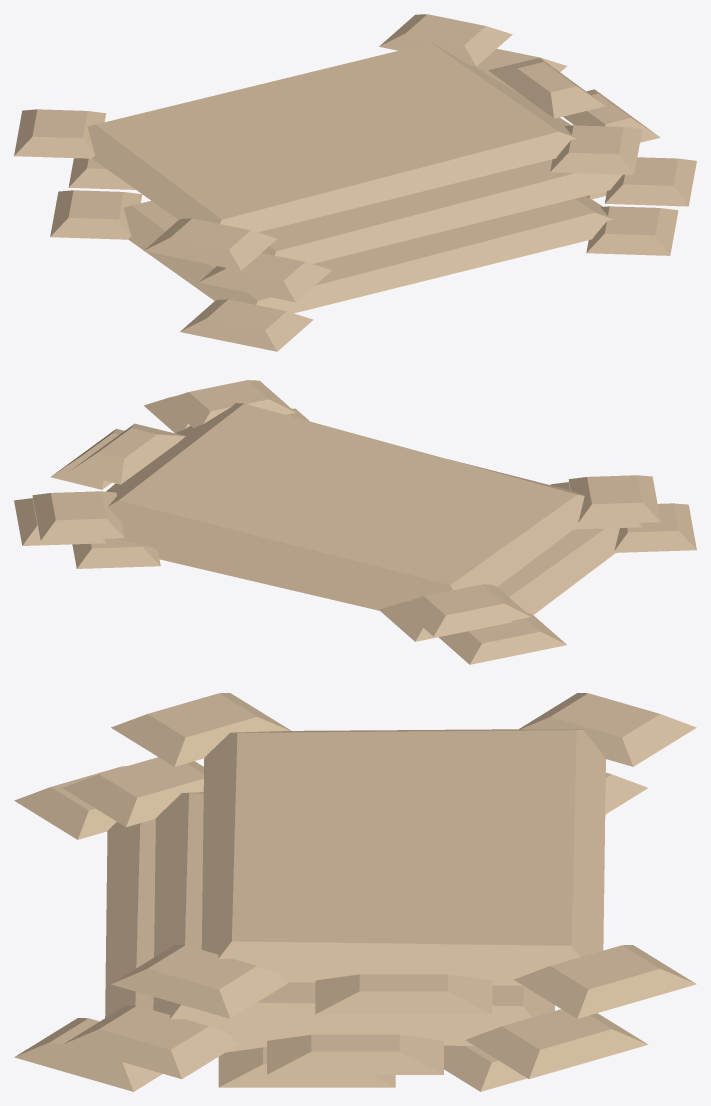
The model's file is item_016_wolf_hide_m.glb.
3 renders of one model, top to bottom at view 1: azimuth 30°, elevation 25°; view 2: azimuth 150°, elevation 25°; view 3: azimuth 270°, elevation 25°, orthographic. The views are drawn at different scales.
Parts seen in each view (by area): view 1: item_016_wolf_hide_m; view 2: item_016_wolf_hide_m; view 3: item_016_wolf_hide_m.
Boxes of the visible parts, x1,y1,x2,y2 form: item_016_wolf_hide_m: [14, 14, 696, 351]; item_016_wolf_hide_m: [14, 380, 696, 664]; item_016_wolf_hide_m: [14, 693, 696, 1091].
Bounding box in the file's own units: 1.03 × 0.1411 × 0.8476.
